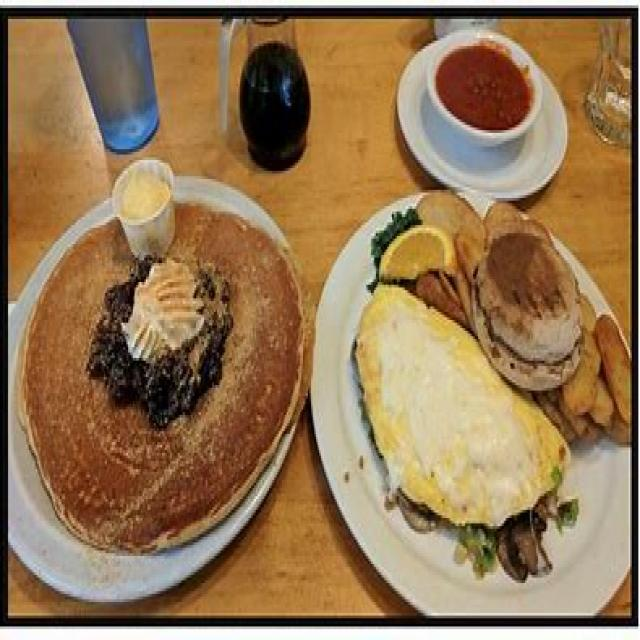Omelette: (345, 301, 554, 534)
Pancakes: (15, 192, 306, 550)
